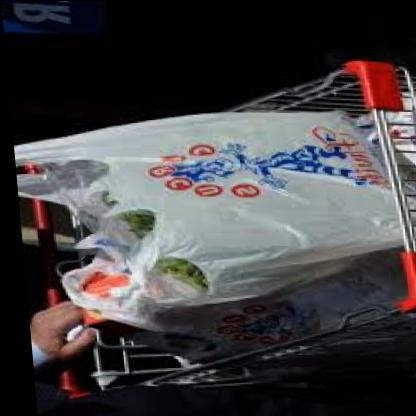Plastic: (16, 104, 416, 304)
